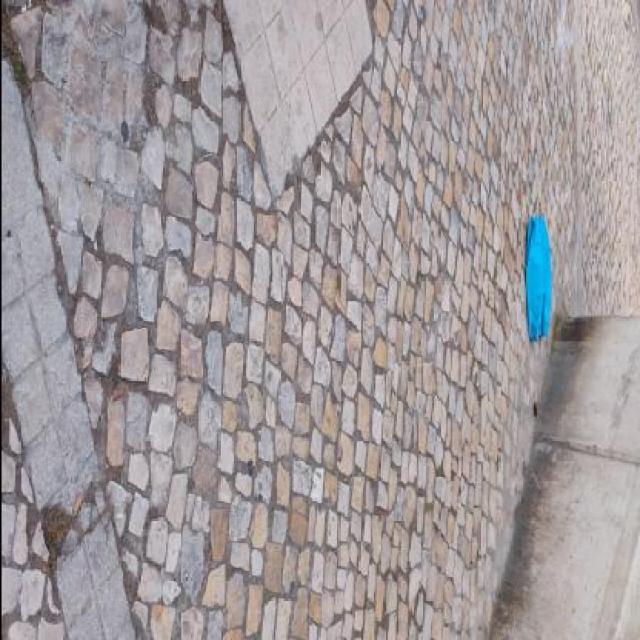plastic: (524, 216, 550, 342)
